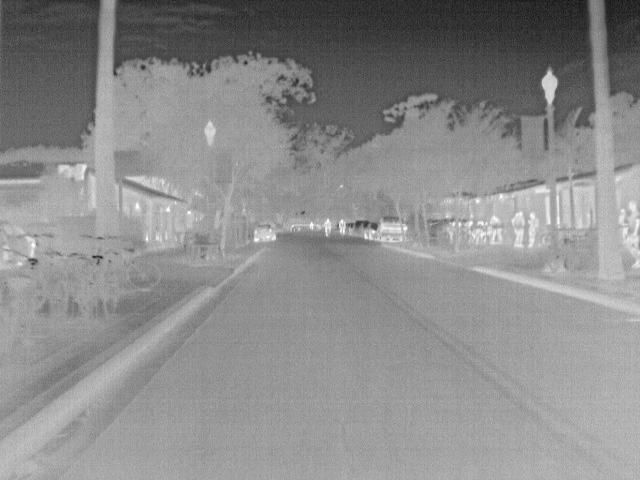car: (1, 221, 37, 267), (375, 214, 408, 244), (251, 219, 277, 241), (364, 221, 379, 240), (357, 221, 369, 237), (352, 220, 364, 236)
person: (624, 199, 640, 268), (515, 208, 529, 250), (527, 211, 542, 250), (488, 214, 506, 243), (324, 218, 334, 237), (338, 218, 348, 236), (309, 220, 316, 232)
